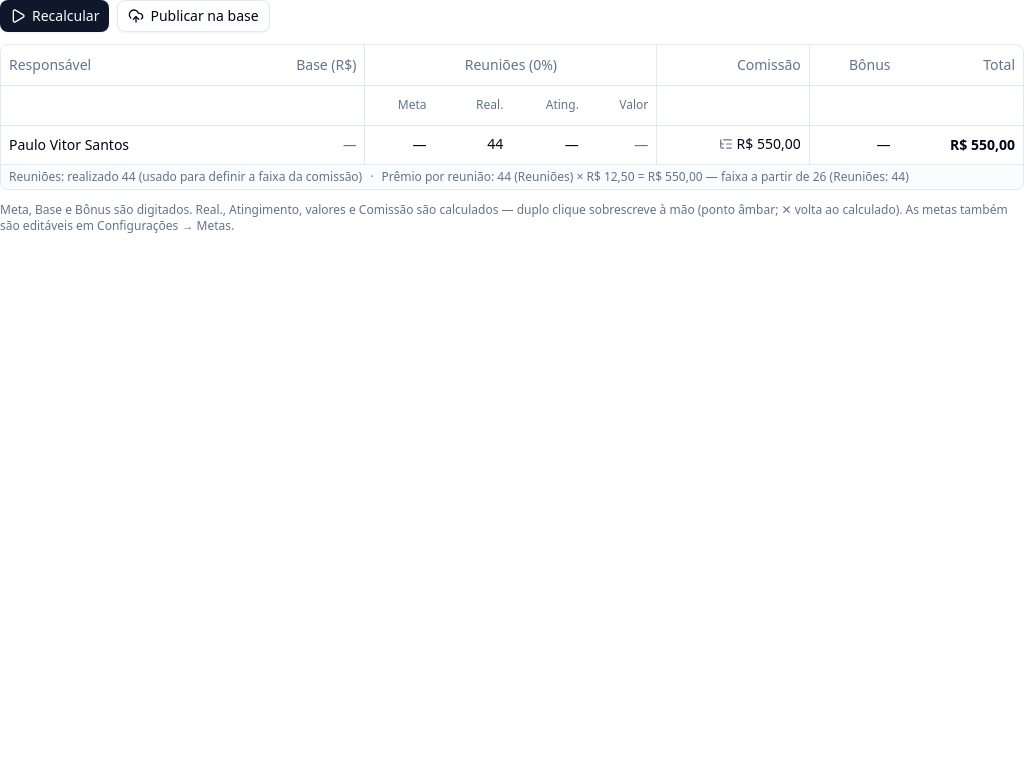
Test: CompGrid — memória de cálculo › popover da Comissão abre com a mesma memória
The width and height of the screenshot is (1024, 768).
Click the button named "Memória de cálculo da comissão".
click(726, 144)  # box left=719, top=136, right=733, bottom=150
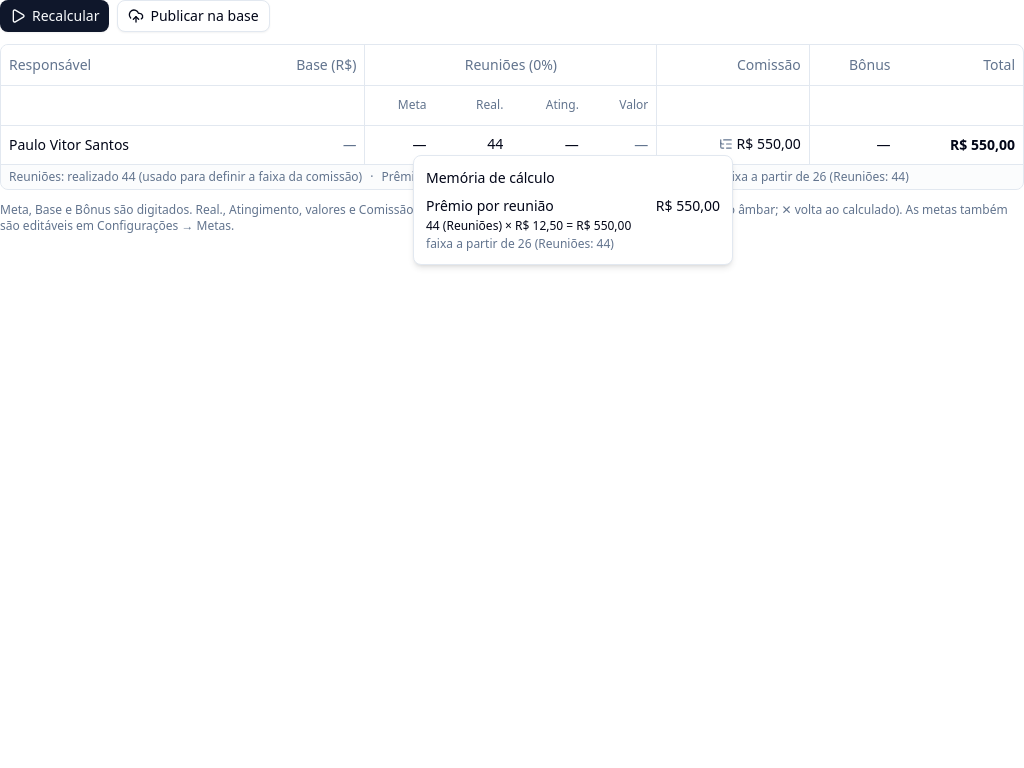
Expected: the text "44 (Reuniões) × R$ 12,50 = R$ 550,00" is shown, left=382, top=168, right=909, bottom=184
Expected: the text "Memória de cálculo" is shown, left=426, top=168, right=555, bottom=187
